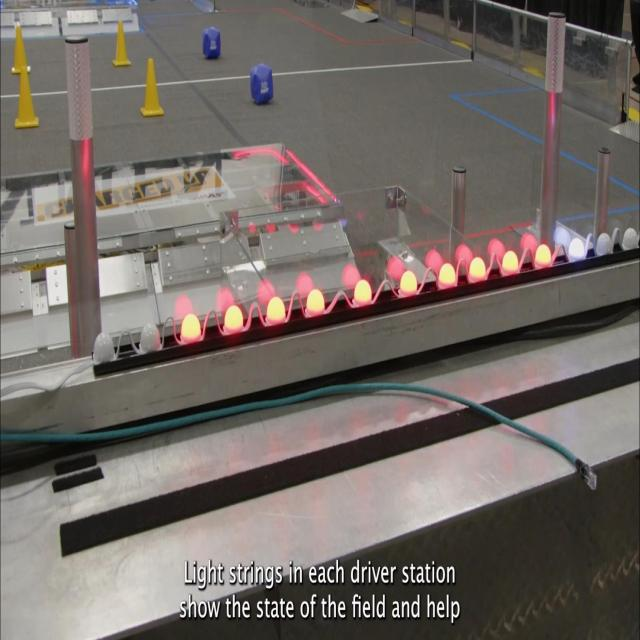frc_cone: (13, 67, 41, 128), (139, 58, 165, 120), (111, 19, 132, 70), (12, 27, 31, 72)
frc_cube: (249, 63, 274, 106), (201, 25, 223, 61)
